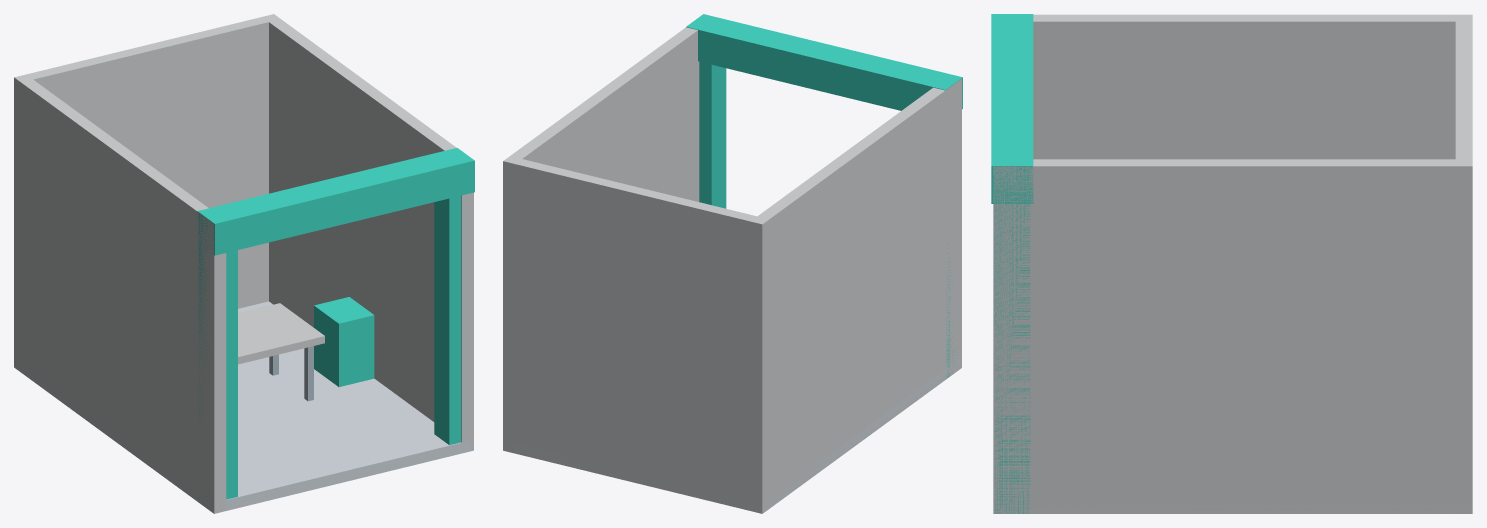
3 views of the same model, side by side, from view 1: azimuth 30°, elevation 25°; view 2: azimuth 150°, elevation 25°; view 3: azimuth 270°, elevation 25° (orthographic). The views are drawn at different scales.
Parts seen in each view (by area): view 1: Exhibition Booth Concept; view 2: Exhibition Booth Concept; view 3: Exhibition Booth Concept.
Boxes of the visible parts, box(x1,y1,x2,y2) form: Exhibition Booth Concept: box(14, 14, 474, 513); Exhibition Booth Concept: box(503, 14, 962, 513); Exhibition Booth Concept: box(991, 14, 1472, 513).
Size of the model in its own units: 3 by 3.2 by 4.02.
